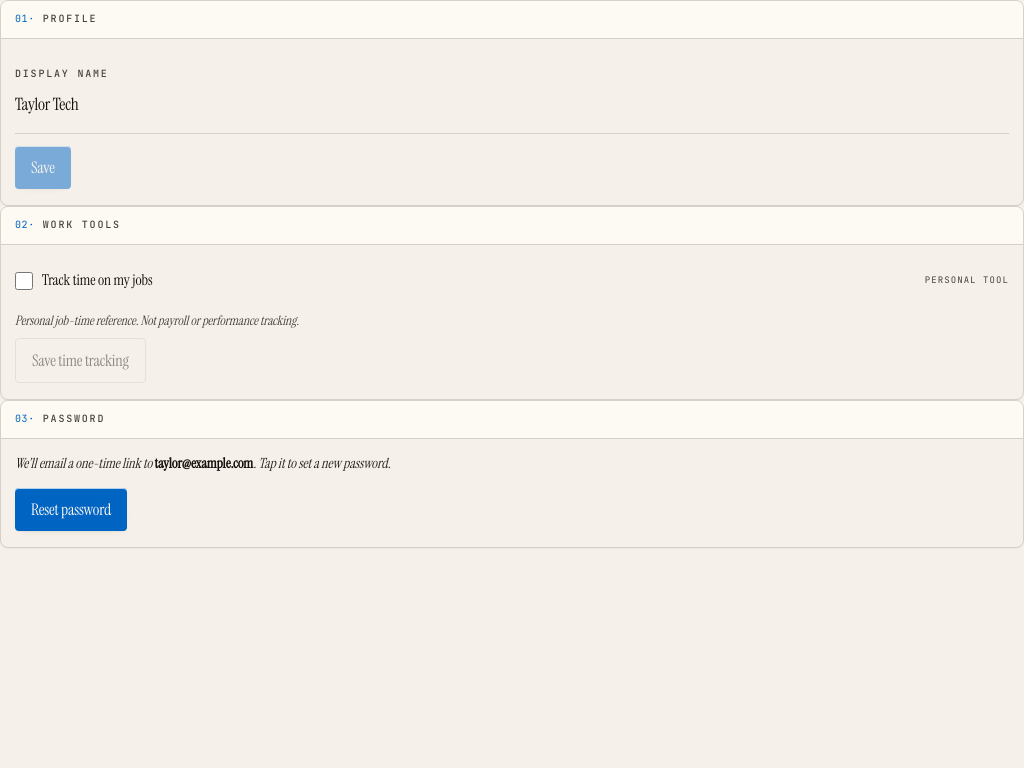
Test: AccountSection personal job timer preference › keeps personal time tracking default-off and saves only after a deliberate action
Expected: the text "Personal job-time reference. Not payroll or performance tracking." is shown, [15, 312, 299, 329]
Step 1. Click the checkbox labelled "Track time on my jobs" → point(24, 281), box [15, 272, 33, 290]
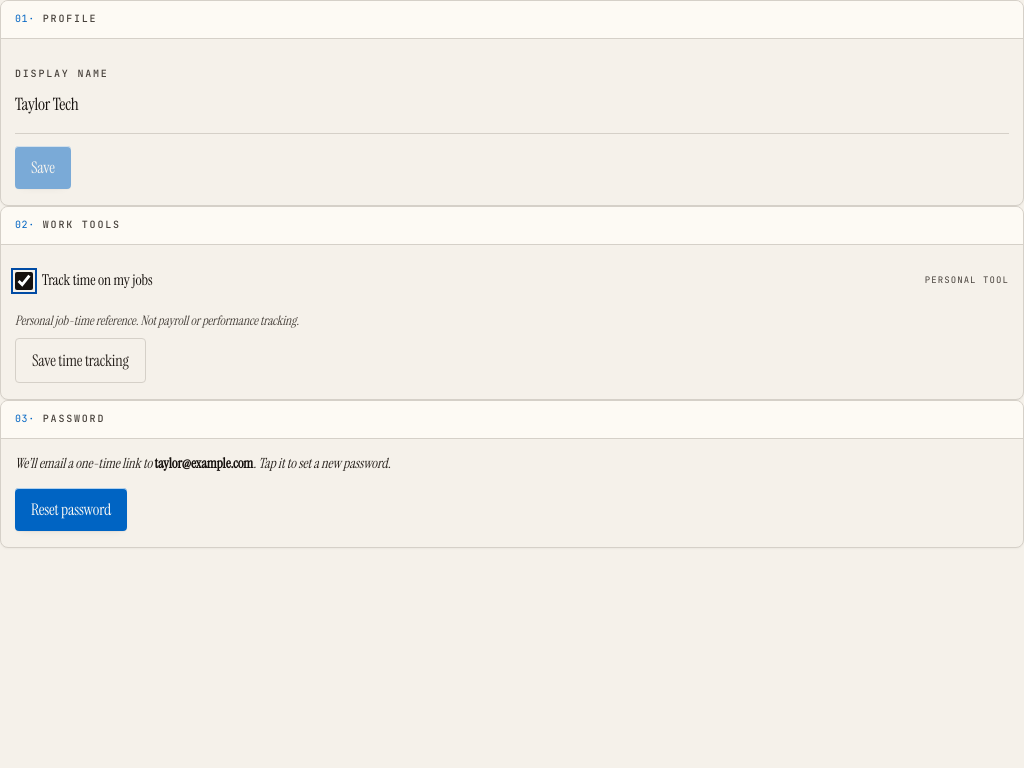
Step 2. Click the button "Save time tracking" → point(80, 361), box [15, 338, 146, 383]
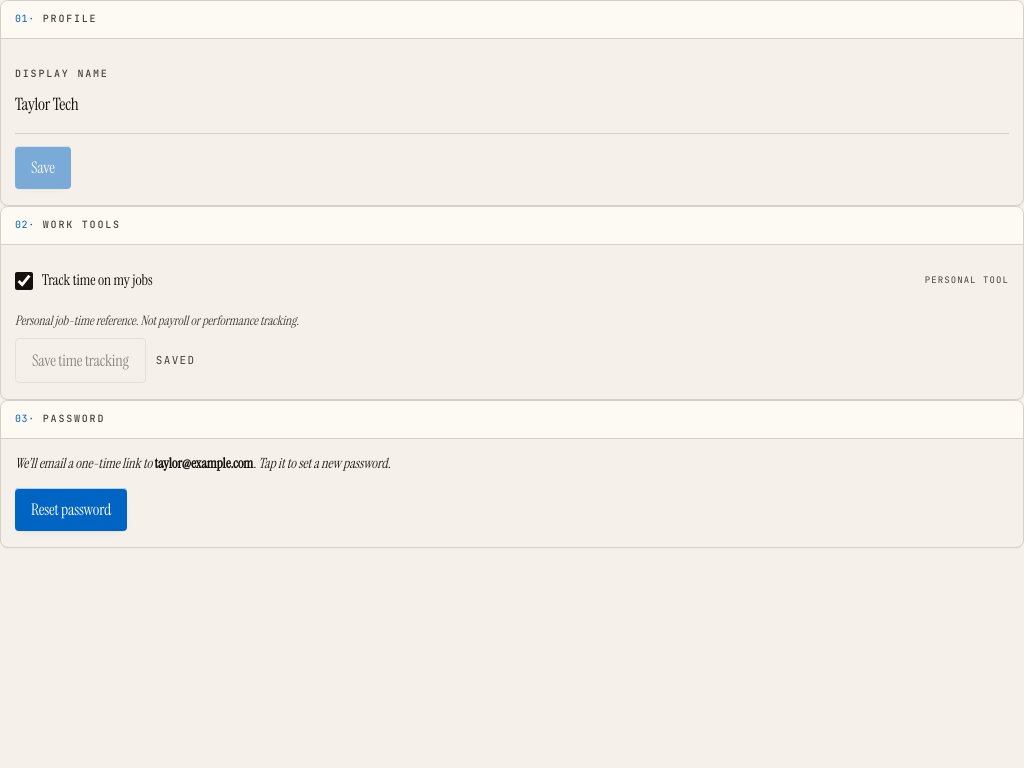
Now the text "Saved" is shown, box [156, 353, 195, 369]
